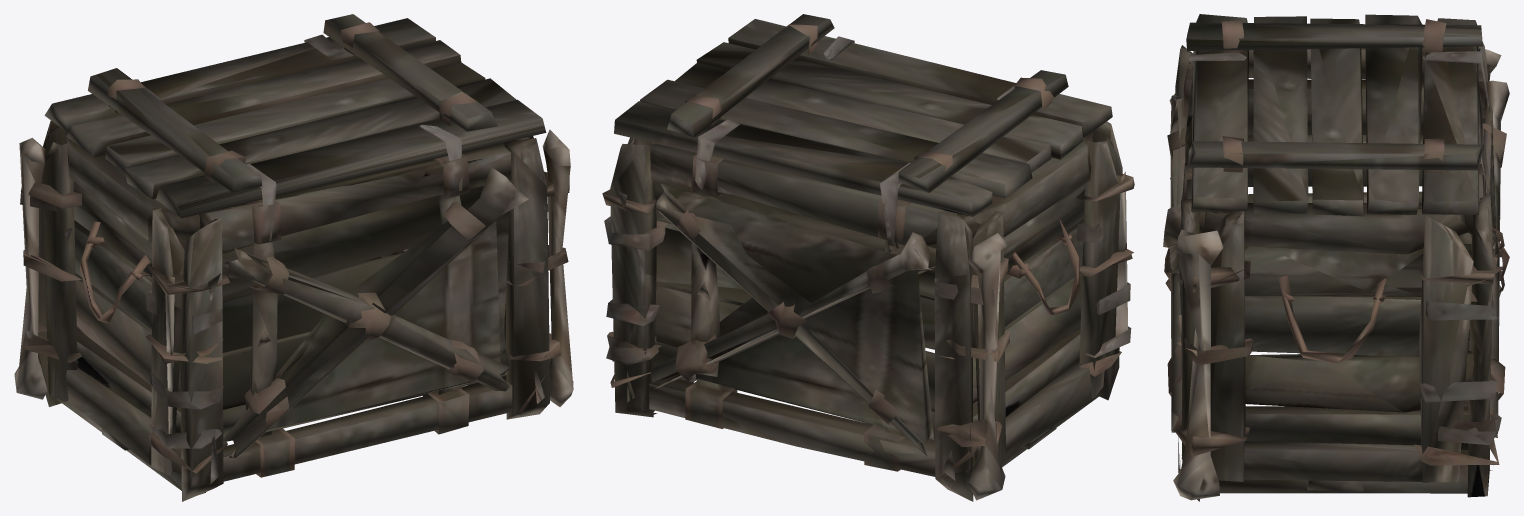
File: KolossCajon.glb
3 renders of one model, left to right at view 1: azimuth 30°, elevation 25°; view 2: azimuth 150°, elevation 25°; view 3: azimuth 270°, elevation 25°, orthographic. The views are drawn at different scales.
Parts seen in each view (by area): view 1: KolossCajon; view 2: KolossCajon; view 3: KolossCajon.
Part boxes in pixels (x1,y1,x2,y2): KolossCajon: [14, 14, 573, 501]; KolossCajon: [602, 14, 1134, 501]; KolossCajon: [1163, 14, 1509, 501].
Bounding box in the file's own units: 1.62 × 1.2 × 1.13.
Materials: 1 (1 with a texture image).
